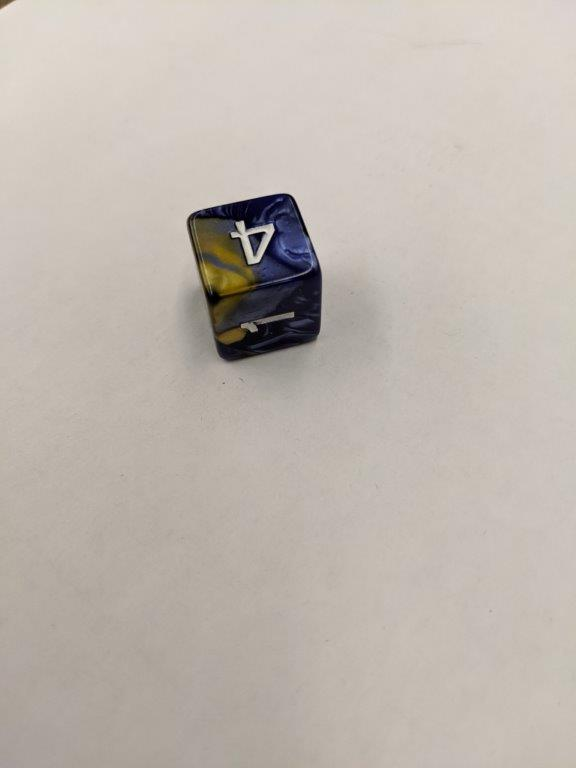d6-4: (188, 194, 324, 367)
